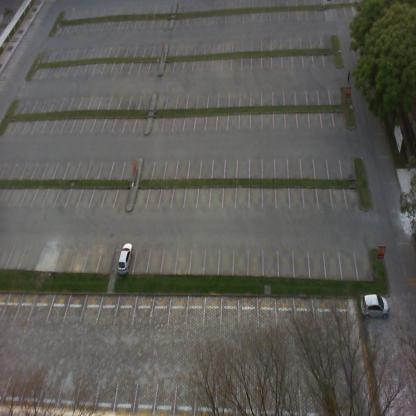car: (358, 294, 390, 321), (116, 241, 133, 279)
